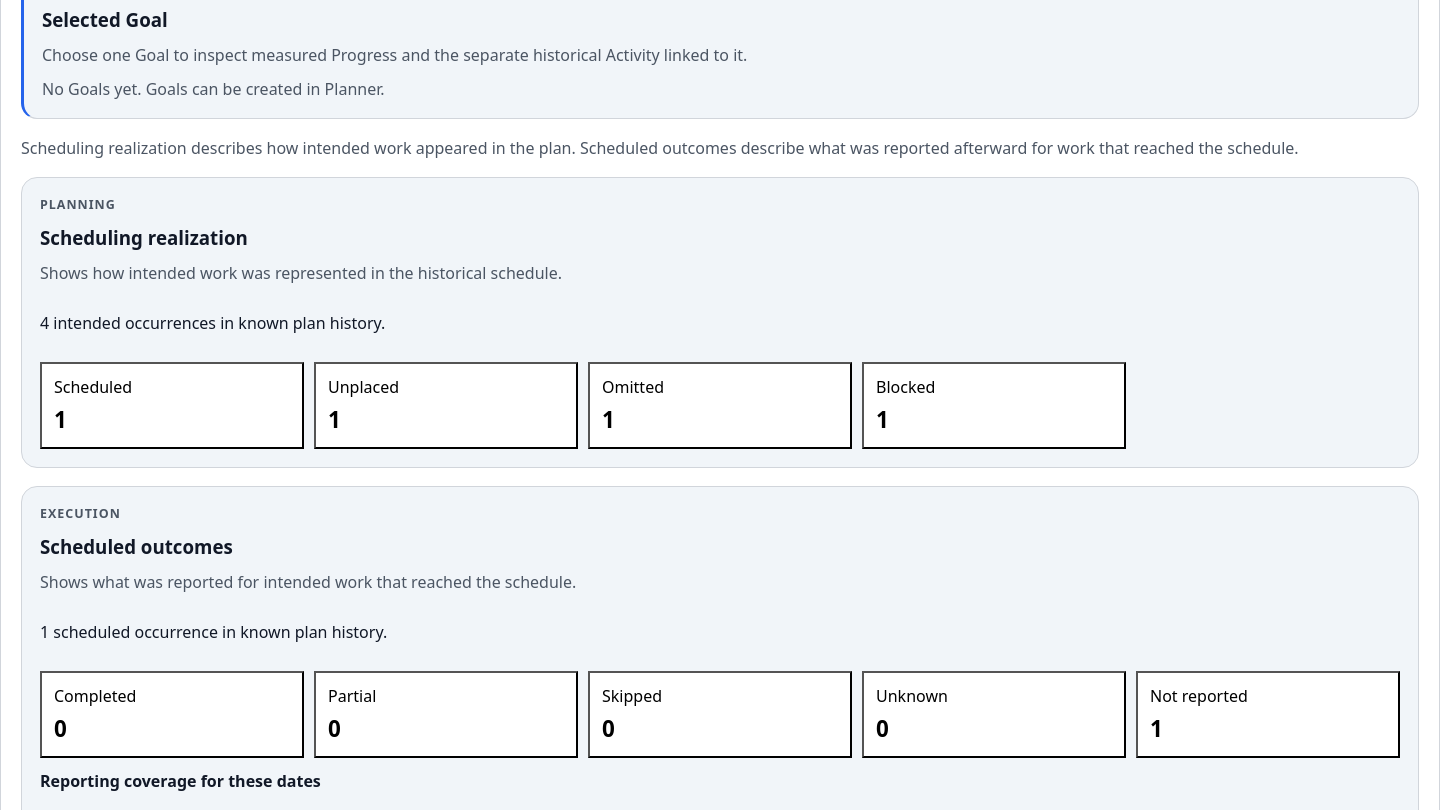
Scenario: HistoricalIntelligenceSummary › renders the canonical four-state planning projection beside unchanged execution outcomes
(page scrolled)
Expected: the heading "Scheduling realization" is shown, [40,225,248,250]
Expected: the button with aria-label "Scheduled: 1" is shown, [40,362,304,449]
What coordinates should you click on to do the following:
click the button with aria-label "Blocked: 1"
I would click on:
 (906, 387)
Its box is [862,362,1126,449].
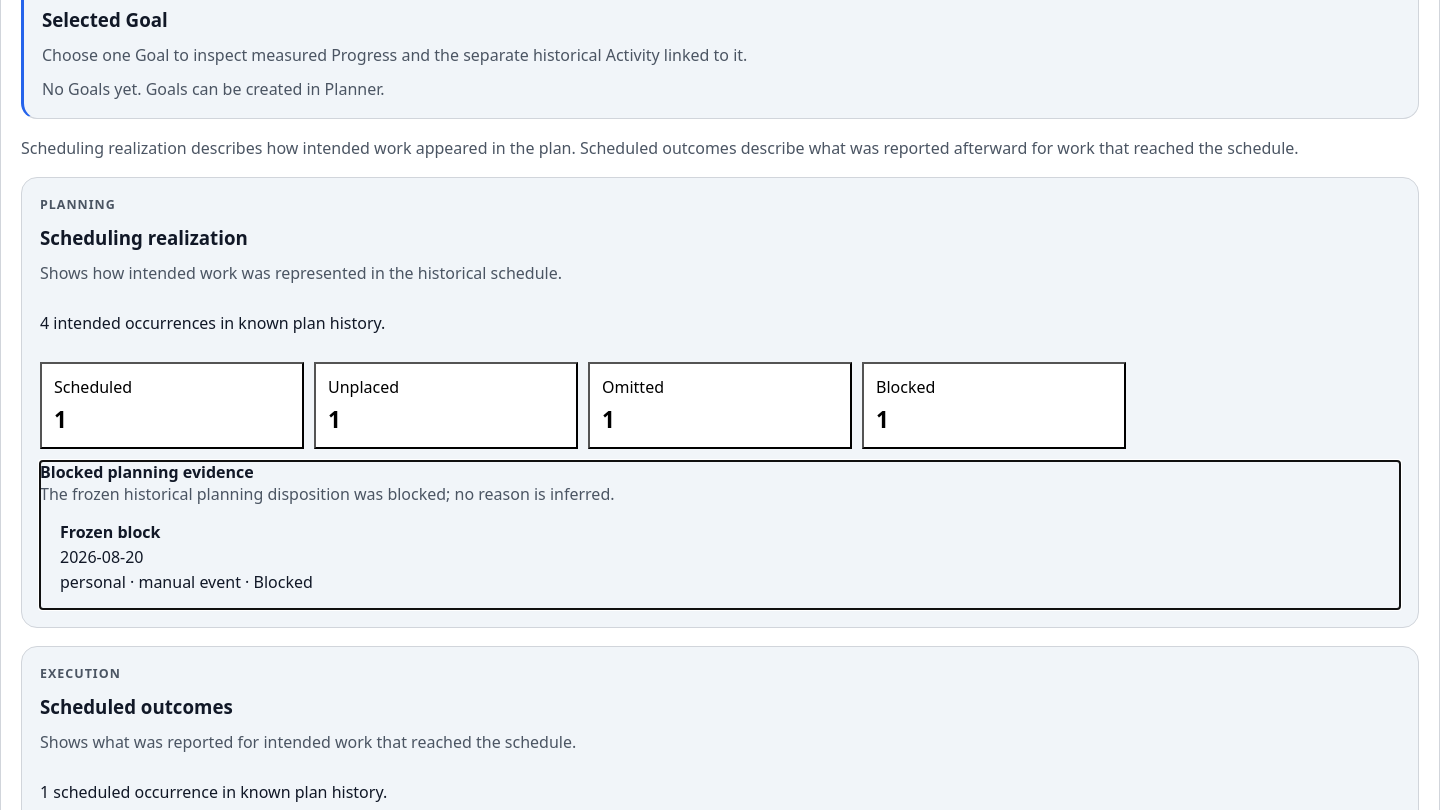
Result: the text "Frozen block" is shown at [60,521,160,543]
Result: the text "no reason is inferred" is shown at [40,483,614,505]
